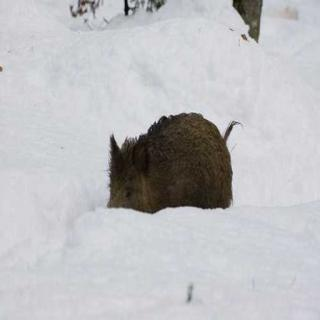Pig: (79, 74, 267, 234)
